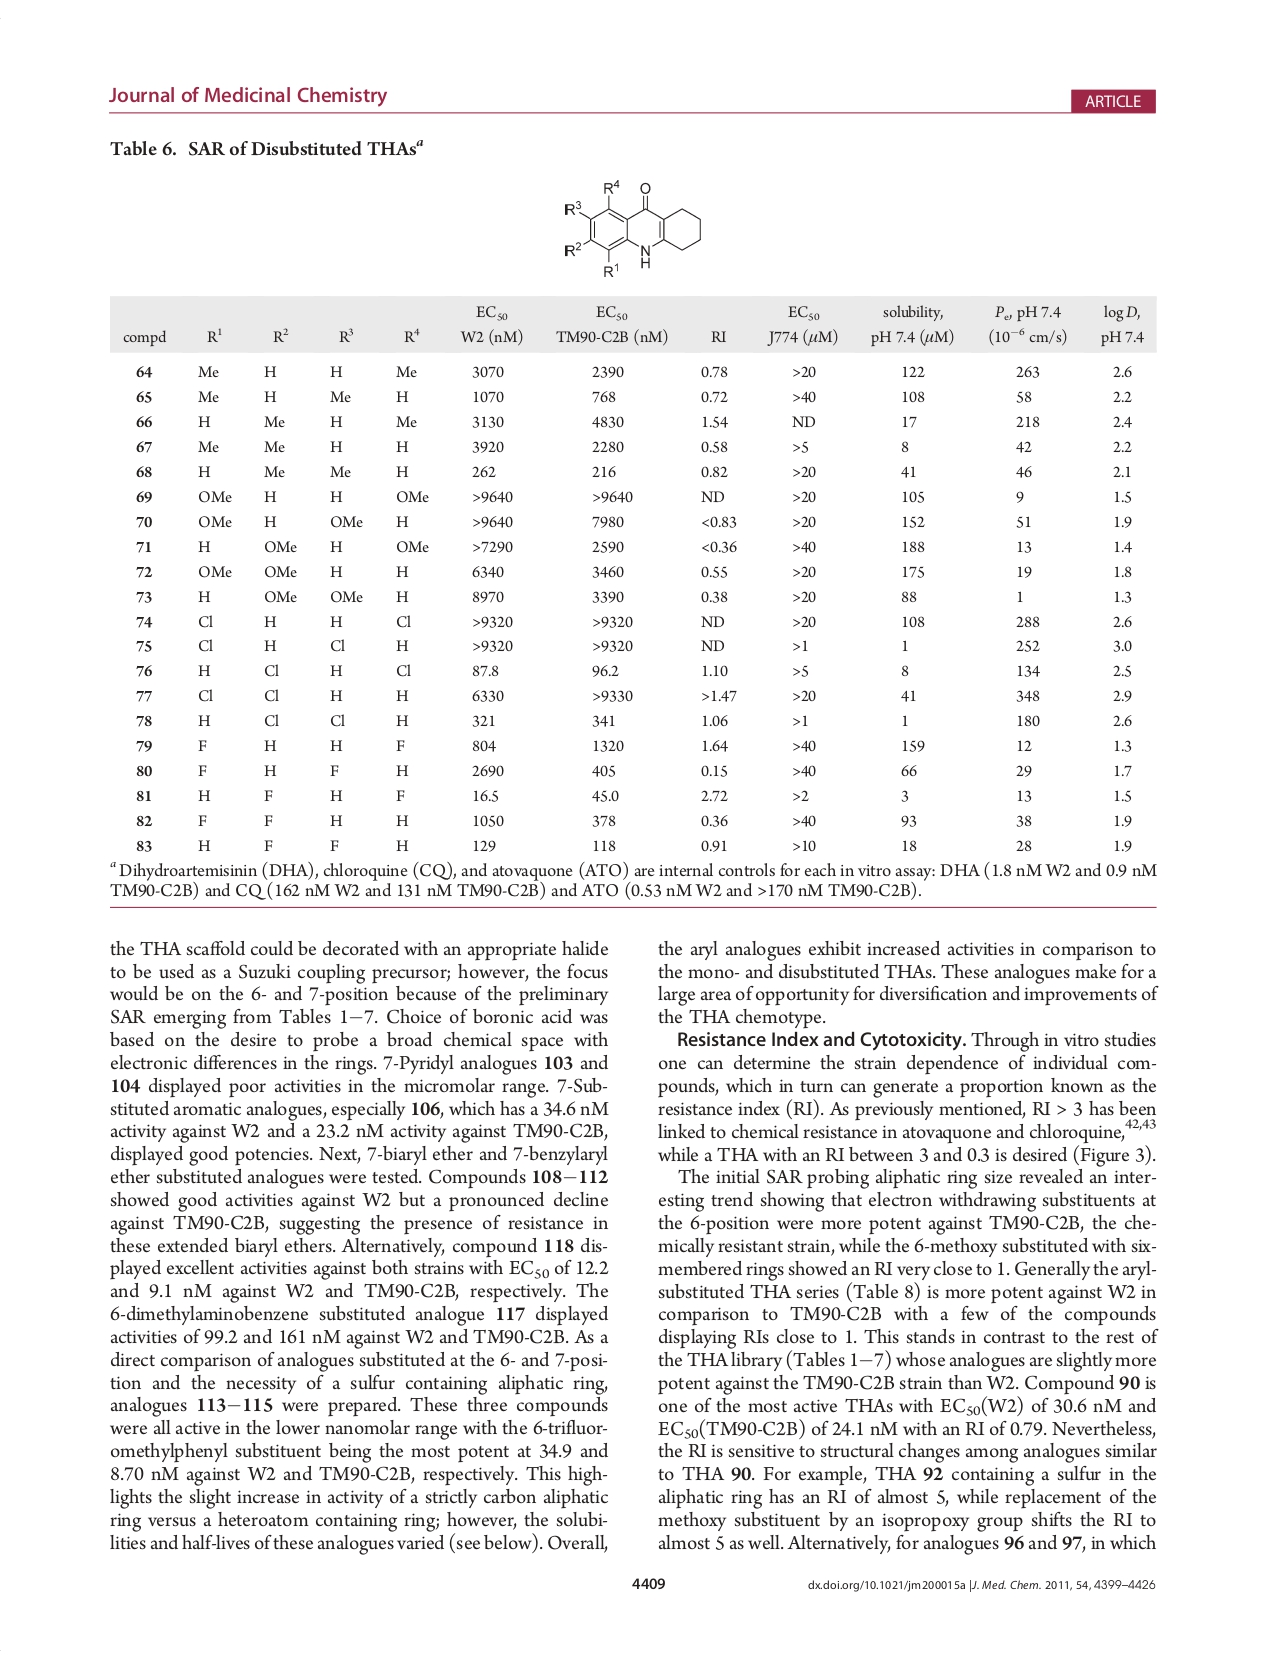exist_molecular: (556, 176, 703, 281)
